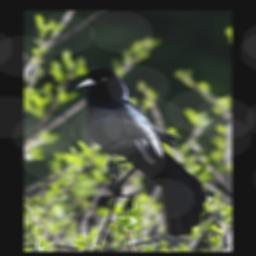Crow: (75, 65, 206, 235)
